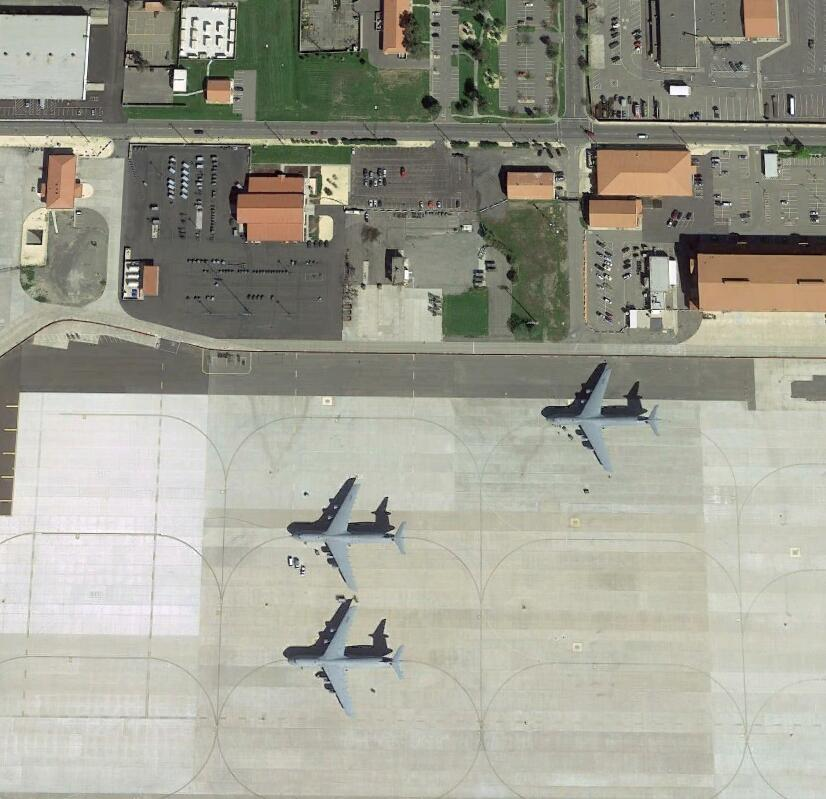A4: (286, 604, 407, 714), (290, 479, 408, 589), (544, 365, 662, 474)
